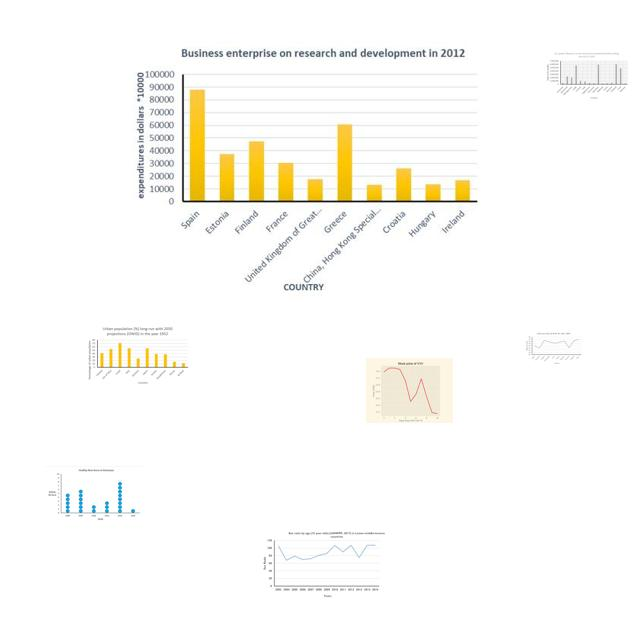Graph: (133, 41, 494, 300), (263, 527, 385, 599), (86, 326, 189, 385), (366, 358, 453, 423), (45, 466, 142, 523), (544, 51, 629, 100), (524, 331, 583, 366)
